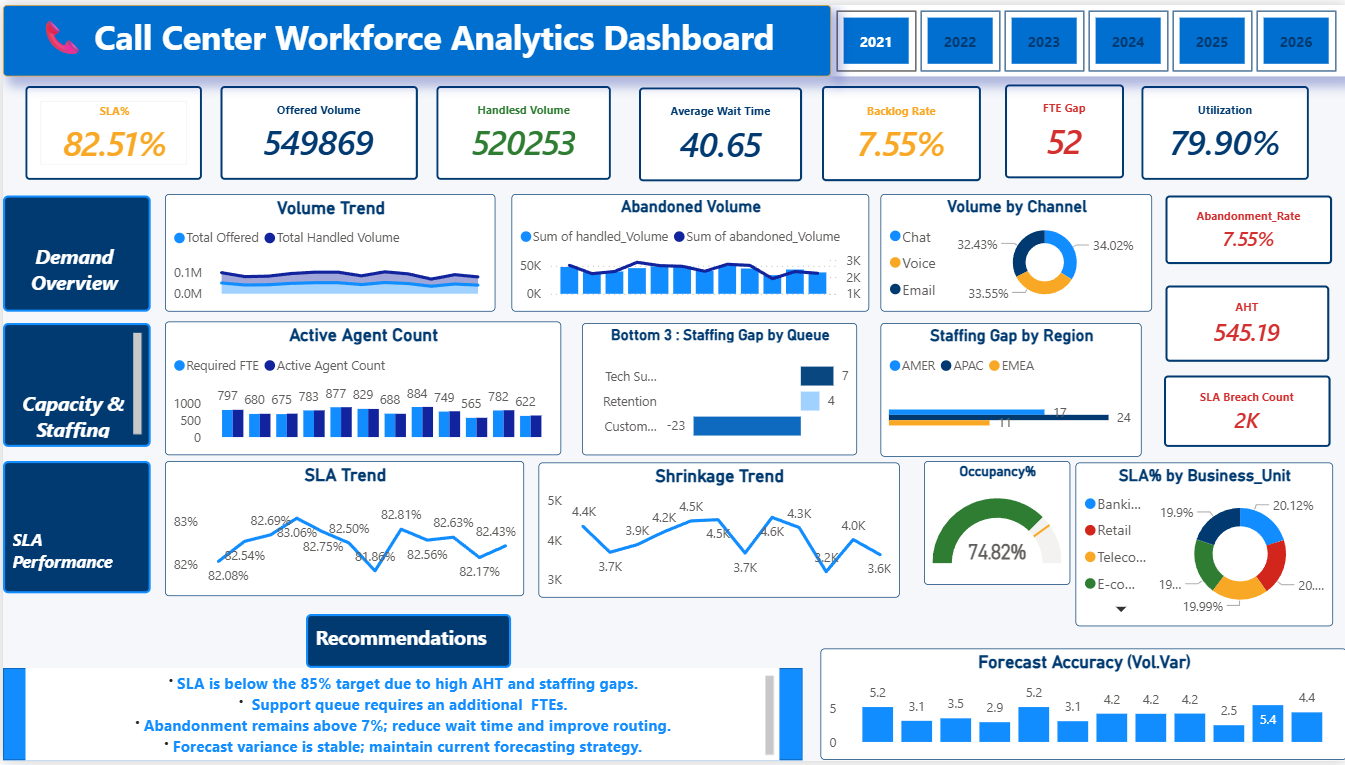

The dashboard page shown, as its layout file describes it:
{"tool":"powerbi","page":{"name":"Operational_Dashboard","canvas":[1280,720],"ordinal":0},"visuals":[{"type":"cardVisual","fields":{"Data":["CLEANED_dataset.Total Offered"]},"box":[206.8,77,187.9,89.2],"z":0},{"type":"cardVisual","fields":{"Data":["CLEANED_dataset.Total Handled Volume"]},"box":[412.3,77,166.3,89.2],"z":1000},{"type":"cardVisual","title":"Avg Wait Time","fields":{"Data":["CLEANED_dataset.Average Wait Time"]},"box":[605.6,78.4,155.4,89.2],"z":2000},{"type":"cardVisual","fields":{"Data":["CLEANED_dataset.Backlog Rate"]},"box":[779.9,77,151.4,90.6],"z":3000},{"type":"stackedAreaChart","title":"Volume Trend","fields":{"Y":["CLEANED_dataset.Total Offered","CLEANED_dataset.Total Handled Volume"],"Category":["CLEANED_dataset.  B.Variation.Date Hierarchy.Month"]},"box":[154.4,180.2,315,112.1],"z":4000},{"type":"gauge","fields":{"Y":["CLEANED_dataset.Occupancy%"]},"box":[876.7,434.6,139.3,118.1],"z":5000},{"type":"clusteredColumnChart","title":"Active Agent Count","fields":{"Category":["CLEANED_dataset.  B.Variation.Date Hierarchy.Month"],"Y":["CLEANED_dataset.Required FTE","CLEANED_dataset.Active Agent Count"]},"box":[154.1,301.4,377.1,127.1],"z":6000},{"type":"lineStackedColumnComboChart","title":"Abandoned Volume","fields":{"Y":["Sum(CLEANED_dataset.handled_Volume)"],"Category":["CLEANED_dataset.  B.Variation.Date Hierarchy.Month"],"Y2":["Sum(CLEANED_dataset.abandoned_Volume)"]},"box":[484.5,180.2,340.7,112.1],"z":7000},{"type":"lineChart","title":"SLA Trend","fields":{"Y":["CLEANED_dataset.SLA%"],"Category":["CLEANED_dataset.  B.Variation.Date Hierarchy.Month"]},"box":[154.4,434.6,342.2,128.7],"z":8000},{"type":"cardVisual","title":"Average Handle Time","fields":{"Data":["CLEANED_dataset.Average Handle Time"]},"box":[1106.9,266.5,156,72.7],"z":9000},{"type":"cardVisual","fields":{"Data":["CLEANED_dataset.SLA%"]},"box":[21.2,77.2,168.1,89.3],"z":10000},{"type":"cardVisual","fields":{"Data":["CLEANED_dataset.FTE Gap"]},"box":[954.3,75.7,113.5,89.2],"z":11000},{"type":"cardVisual","title":"Utilization % ","fields":{"Data":["Avg(CLEANED_dataset.Utilisation %)"]},"box":[1084.1,77,159.5,89.2],"z":12000},{"type":"donutChart","fields":{"Y":["CLEANED_dataset.SLA%"],"Category":["CLEANED_dataset.Business_Unit"]},"box":[1022.1,436.1,245.3,156],"z":13000},{"type":"donutChart","title":"Volume by Channel","fields":{"Y":["Sum(CLEANED_dataset.handled_Volume)"],"Category":["CLEANED_dataset.Channel"]},"box":[835.8,180.2,258.9,112.1],"z":14000},{"type":"clusteredBarChart","title":"Bottom 3 : Staffing Gap by Queue","fields":{"Category":["CLEANED_dataset.Queue_Units_Filter"],"Y":["CLEANED_dataset.FTE Gap"]},"box":[551.5,302.8,262.2,125.7],"z":15000},{"type":"clusteredBarChart","title":"Staffing Gap by Region","fields":{"Series":["CLEANED_dataset.Region"],"Y":["CLEANED_dataset.FTE Gap"]},"box":[835.4,302.8,248.7,127.1],"z":16000},{"type":"cardVisual","title":"Average Handle Time","fields":{"Data":["CLEANED_dataset.SLA Breach Count"]},"box":[1105.4,352.8,159,68.1],"z":17000},{"type":"cardVisual","title":"Average Handle Time","fields":{"Data":["CLEANED_dataset.Abandonment_Rate"]},"box":[1106.9,181.7,159,65.1],"z":18000},{"type":"lineChart","title":"Shrinkage Trend","fields":{"Category":["CLEANED_dataset.  B.Variation.Date Hierarchy.Month"],"Y":["Sum(CLEANED_dataset.shrinkage_Percent)"]},"box":[510.3,436.1,343.7,128.7],"z":19000},{"type":"clusteredColumnChart","title":"Forecast Accuracy (Vol.Var)","fields":{"Y":["Sum(CLEANED_dataset.Volume__Var)"],"Category":["CLEANED_dataset.  B.Variation.Date Hierarchy.Month"]},"box":[778.3,613.3,501.2,106],"z":20000},{"type":"advancedSlicerVisual","fields":{"Values":["CLEANED_dataset.  B.Variation.Date Hierarchy.Year"]},"box":[788.9,0,490.6,68.1],"z":21000},{"type":"textbox","box":[0,0,788.9,68.1],"z":22000},{"type":"textbox","box":[0,181.7,140.8,110.5],"z":23000},{"type":"textbox","box":[0,302.8,140.8,118.1],"z":24000},{"type":"textbox","box":[0,434.6,140.8,125.7],"z":25000},{"type":"textbox","box":[289.2,579.9,195.3,51.5],"z":26000},{"type":"shape","box":[0,631.4,761.6,87.8],"z":27000},{"type":"textbox","box":[21.2,631.4,717.7,87.8],"z":28000}]}

Visuals, with their boxes in screenshot pixels (x1, y1, x2, y2), scaled from the page's 1280x720 canvas onto the 1345x765 screenshot:
cardVisual - CLEANED_dataset.Total Offered: (217,82,415,177)
cardVisual - CLEANED_dataset.Total Handled Volume: (433,82,608,177)
"Avg Wait Time" cardVisual: (636,83,800,178)
cardVisual - CLEANED_dataset.Backlog Rate: (820,82,979,178)
"Volume Trend" stackedAreaChart: (162,191,493,311)
gauge - CLEANED_dataset.Occupancy%: (921,462,1068,587)
"Active Agent Count" clusteredColumnChart: (162,320,558,455)
"Abandoned Volume" lineStackedColumnComboChart: (509,191,867,311)
"SLA Trend" lineChart: (162,462,522,599)
"Average Handle Time" cardVisual: (1163,283,1327,360)
cardVisual - CLEANED_dataset.SLA%: (22,82,199,177)
cardVisual - CLEANED_dataset.FTE Gap: (1003,80,1122,175)
"Utilization % " cardVisual: (1139,82,1307,177)
donutChart - CLEANED_dataset.SLA% x CLEANED_dataset.Business_Unit: (1074,463,1332,629)
"Volume by Channel" donutChart: (878,191,1150,311)
"Bottom 3 : Staffing Gap by Queue" clusteredBarChart: (580,322,855,455)
"Staffing Gap by Region" clusteredBarChart: (878,322,1139,457)
"Average Handle Time" cardVisual: (1162,375,1329,447)
"Average Handle Time" cardVisual: (1163,193,1330,262)
"Shrinkage Trend" lineChart: (536,463,897,600)
"Forecast Accuracy (Vol.Var)" clusteredColumnChart: (818,652,1344,764)
advancedSlicerVisual - CLEANED_dataset.  B.Variation.Date Hierarchy.Year: (829,0,1344,72)
textbox: (0,0,829,72)
textbox: (0,193,148,310)
textbox: (0,322,148,447)
textbox: (0,462,148,595)
textbox: (304,616,509,671)
shape: (0,671,800,764)
textbox: (22,671,776,764)
